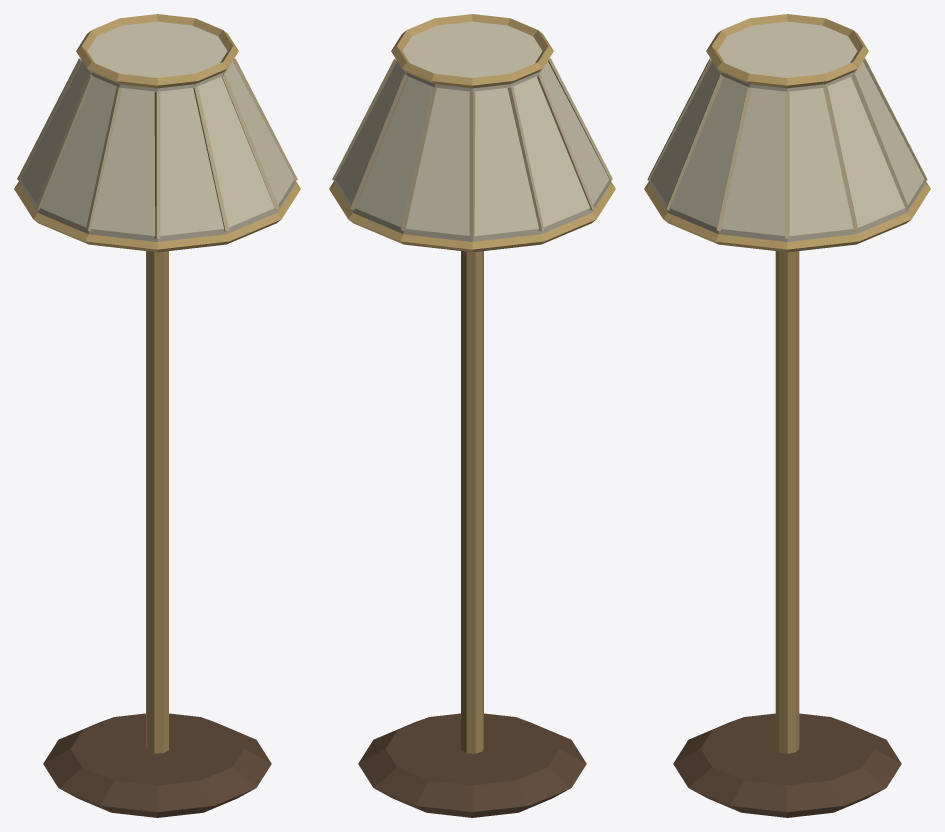
The model's file is lamp_floor.glb.
3 renders of one model, left to right at view 1: azimuth 30°, elevation 25°; view 2: azimuth 150°, elevation 25°; view 3: azimuth 270°, elevation 25°, orthographic.
Visible parts, largest first — view 1: shade, geometry; view 2: shade, geometry; view 3: shade, geometry.
Part boxes in pixels (x1,y1,x2,y2): shade: (14,14,300,252); geometry: (43,251,271,817); shade: (329,14,615,252); geometry: (358,251,586,817); shade: (644,14,930,252); geometry: (673,251,901,817).
Bounding box in the file's own units: 0.604 × 1.7 × 0.604.
